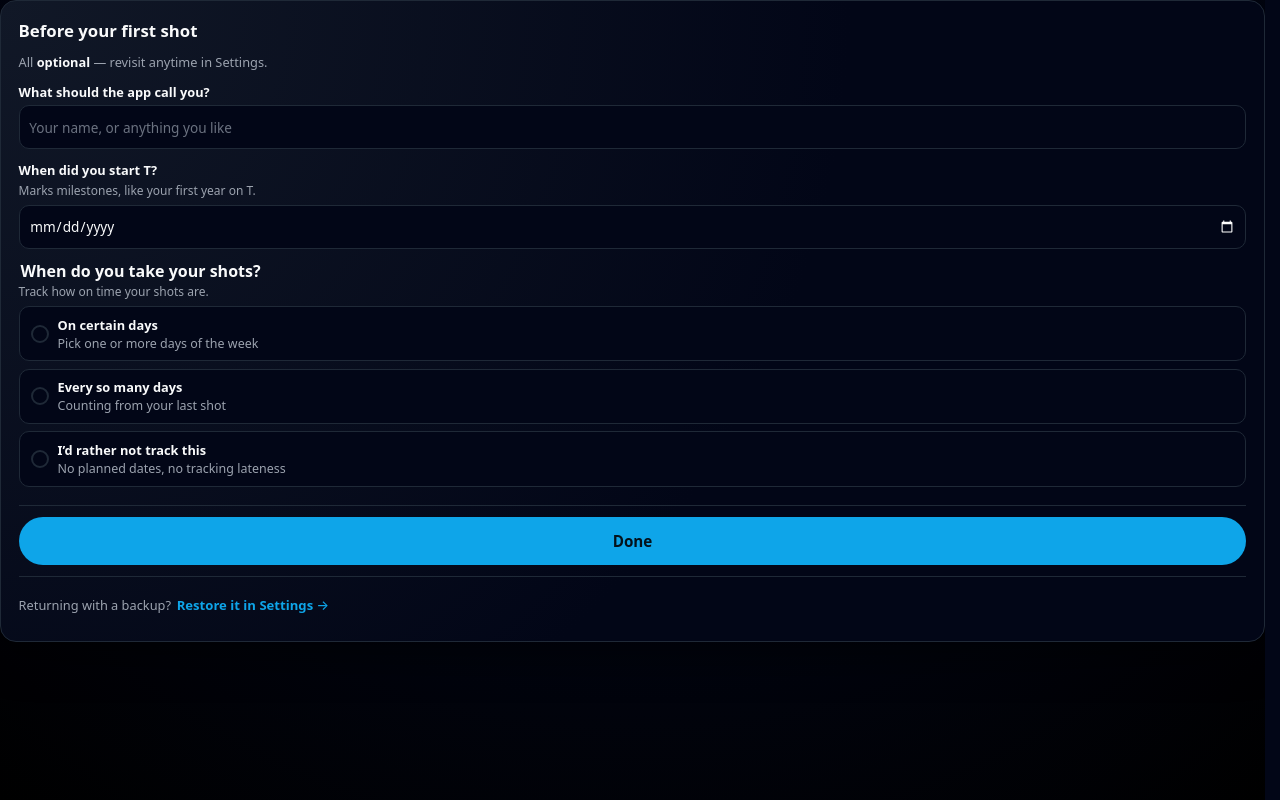
FirstShotCard — the start date › offers Remove as soon as the date is entered, not after blur
The width and height of the screenshot is (1280, 800).
Type "2025-06-01" into the date field labelled "When did you start T?" at [632, 227], box [19,205,1246,249]
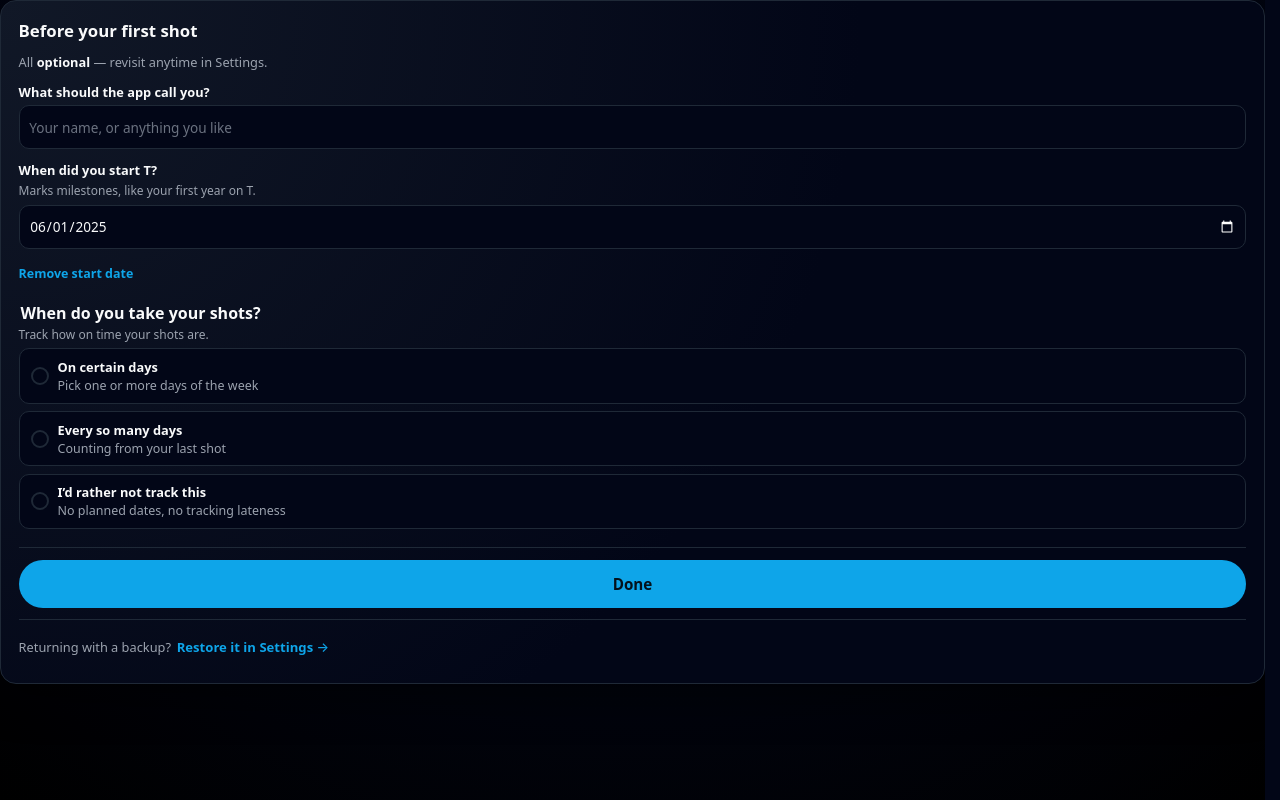
Now the button "Remove start date" is shown, box [19,255,133,291]
